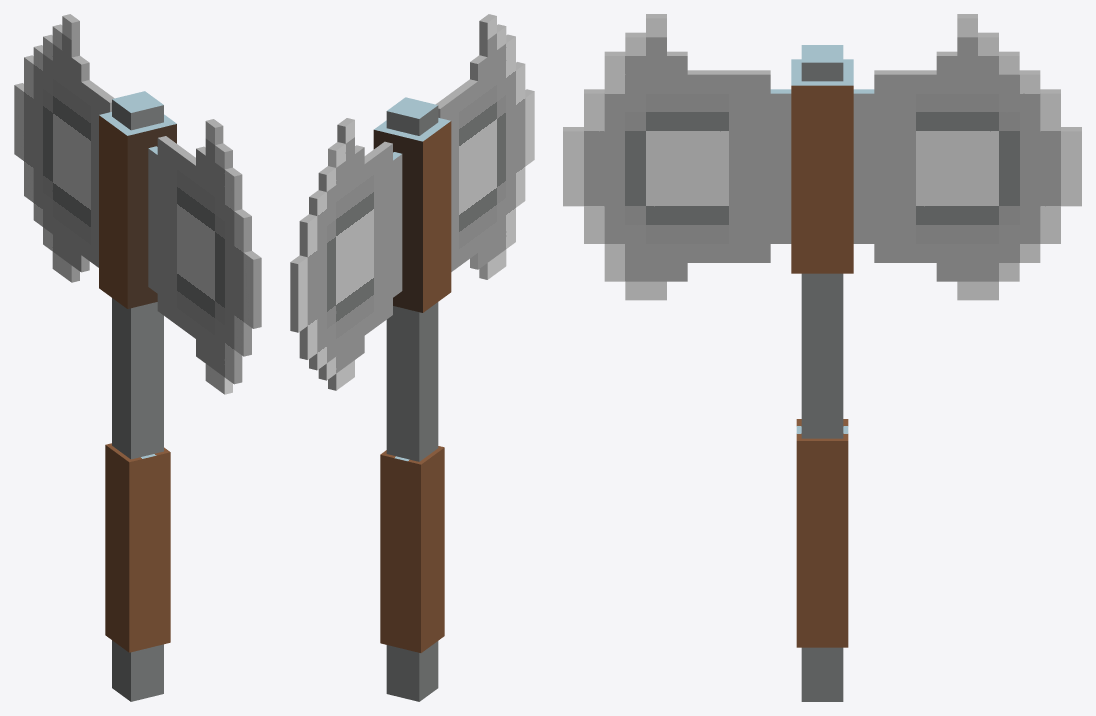
The model's file is battle-axe.gltf.
The picture shows the model from 3 angles, left to right: view 1: azimuth 30°, elevation 25°; view 2: azimuth 150°, elevation 25°; view 3: azimuth 270°, elevation 25°; orthographic projection. The views are drawn at different scales.
Parts seen in each view (by area): view 1: cube (×20); view 2: cube (×20); view 3: cube (×19).
Boxes of the visible parts, x1=… form: cube (×20): x1=14, y1=14, x2=261, y2=701; cube (×20): x1=290, y1=14, x2=534, y2=701; cube (×19): x1=563, y1=32, x2=1081, y2=701.
Size of the model in its own units: 0.1875 by 2.25 by 1.56.
Materials: 1 (1 with a texture image).
